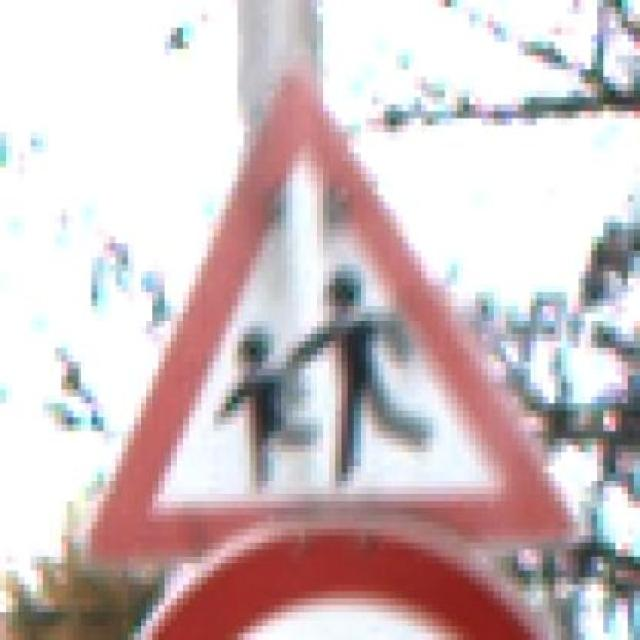Beware of children: (49, 69, 592, 571)
